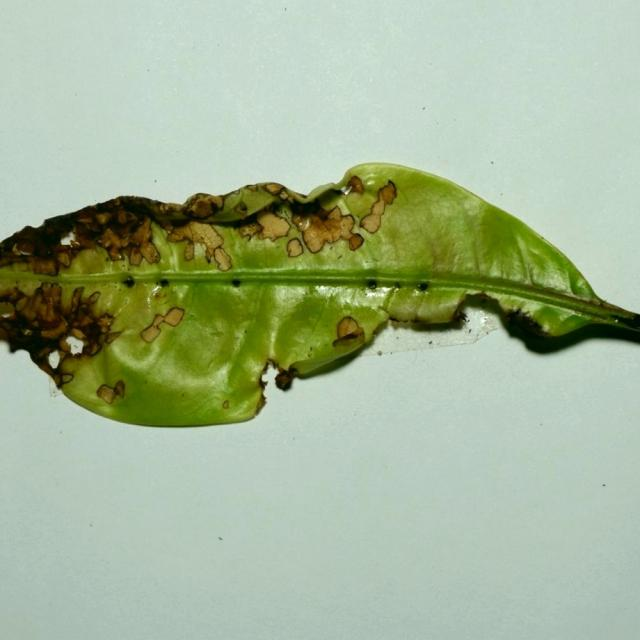Anthracnose: (137, 303, 186, 346)
Lemon: (0, 163, 639, 431)
